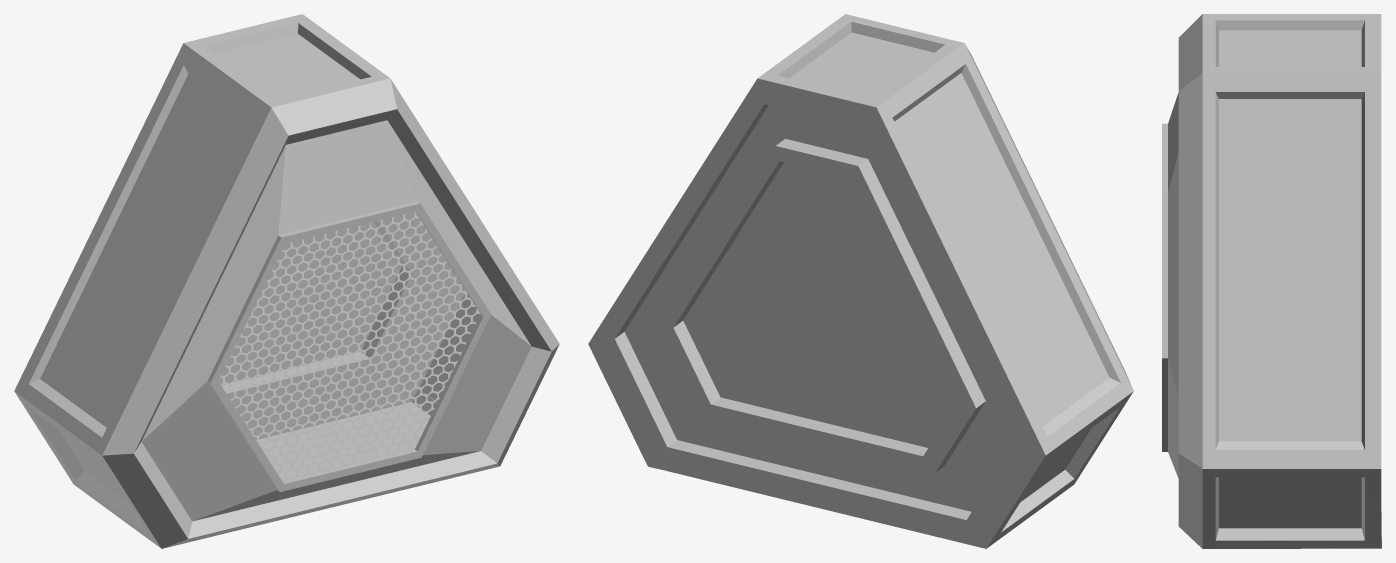
The model's file is TrampolinePlaform.fbx.
3 views of the same model, side by side, from view 1: azimuth 30°, elevation 25°; view 2: azimuth 150°, elevation 25°; view 3: azimuth 270°, elevation 25° (orthographic).
Visible parts, largest first — view 1: MetalBody; view 2: MetalBody; view 3: MetalBody.
Boxes of the visible parts, x1=… form: MetalBody: x1=14, y1=14, x2=559, y2=548; MetalBody: x1=588, y1=14, x2=1133, y2=548; MetalBody: x1=1162, y1=14, x2=1381, y2=548.
Size of the model in its own units: 130 by 113 by 53.25.
